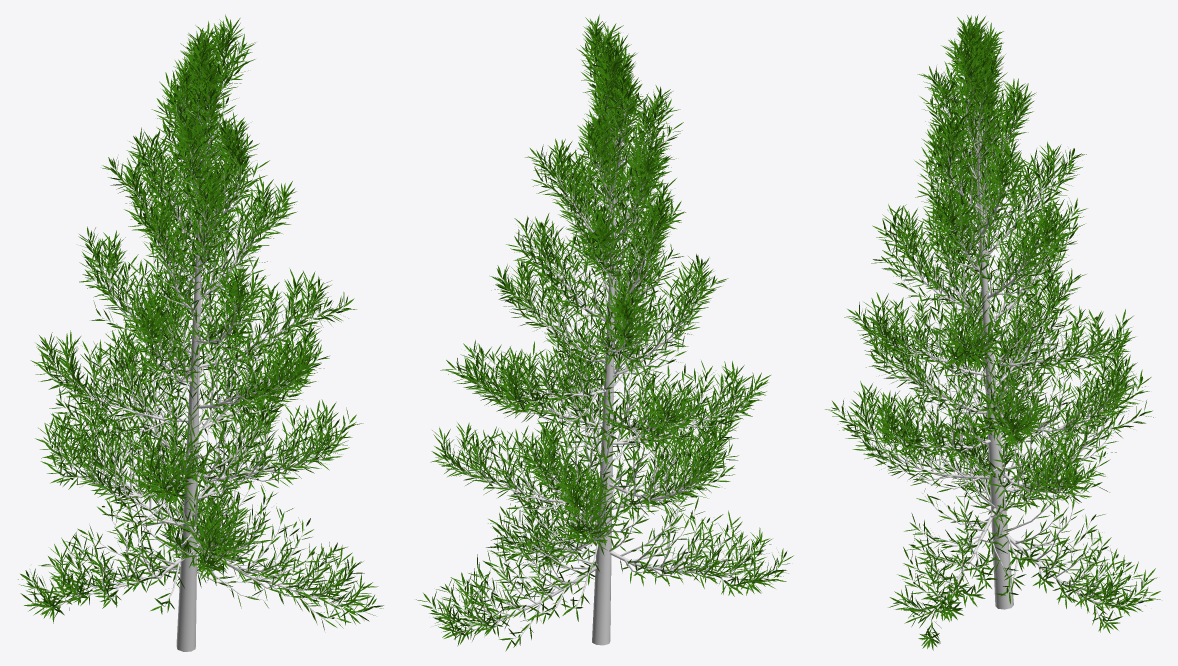
Rendered from ChristmasTree.fbx.
3 views of the same model, side by side, from view 1: azimuth 30°, elevation 25°; view 2: azimuth 150°, elevation 25°; view 3: azimuth 270°, elevation 25° (orthographic). The views are drawn at different scales.
Visible parts, largest first — view 1: leaves, tree; view 2: leaves, tree; view 3: leaves, tree.
Part boxes in pixels (x1,y1,x2,y2): leaves: (18,14,383,630); tree: (35,53,352,651); leaves: (416,14,793,651); tree: (441,49,769,645); leaves: (825,14,1160,650); tree: (850,39,1142,633).
Size of the model in its own units: 438 by 795 by 410.
